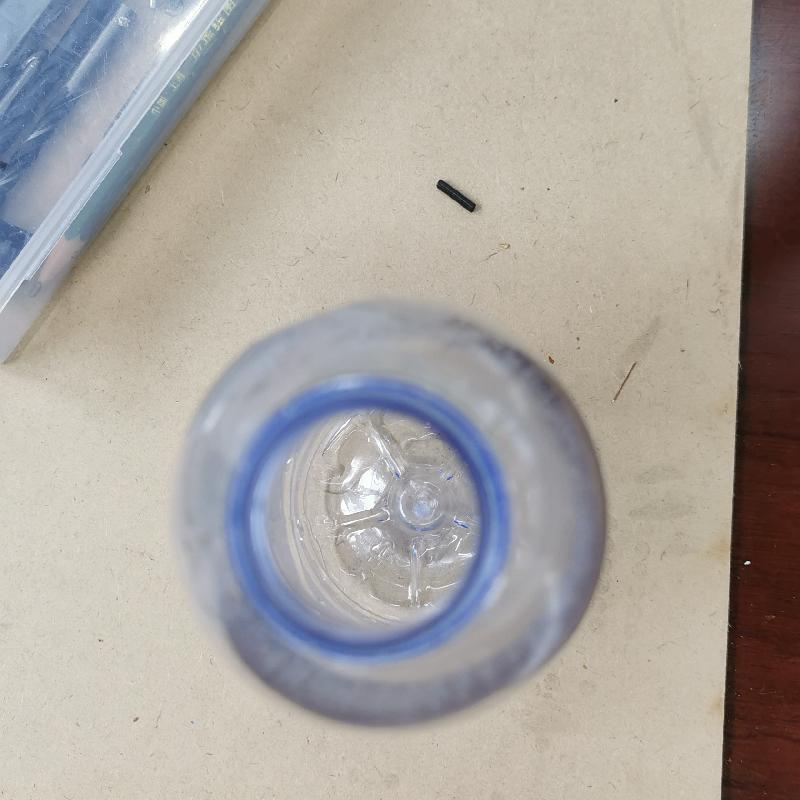bottles: (165, 296, 614, 731)
